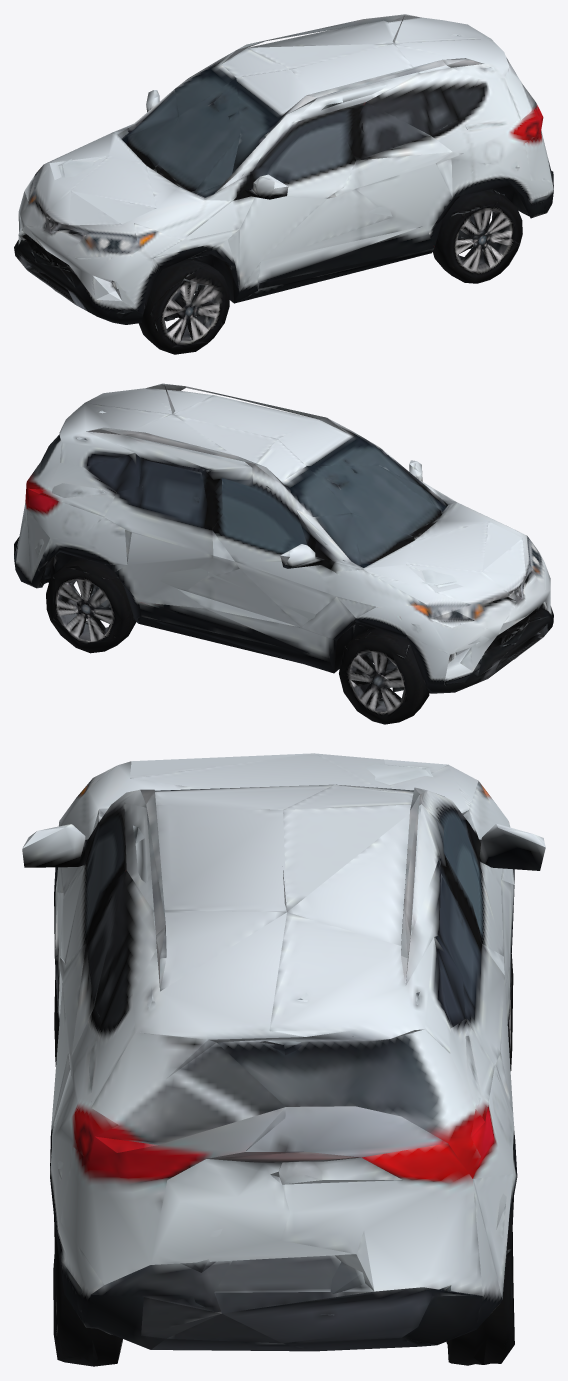
File: addy_parked_car.obj
3 views of the same model, one above another, from view 1: azimuth 30°, elevation 25°; view 2: azimuth 150°, elevation 25°; view 3: azimuth 270°, elevation 25° (orthographic). The views are drawn at different scales.
Parts seen in each view (by area): view 1: model; view 2: model; view 3: model.
Part boxes in pixels (x1=…): model: x1=14, y1=14, x2=553, y2=354; model: x1=14, y1=383, x2=553, y2=724; model: x1=22, y1=753, x2=545, y2=1366.
Bounding box in the file's own units: 1.9 × 0.8891 × 0.8966.
